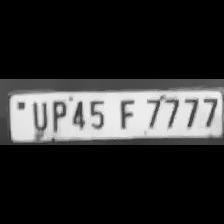4: (68, 96, 88, 130)
5: (84, 96, 107, 130)
7: (139, 95, 163, 129), (160, 95, 180, 129), (180, 94, 200, 128), (198, 94, 218, 128)
F: (113, 96, 140, 130)
P: (48, 98, 68, 132)
U: (28, 98, 48, 132)
